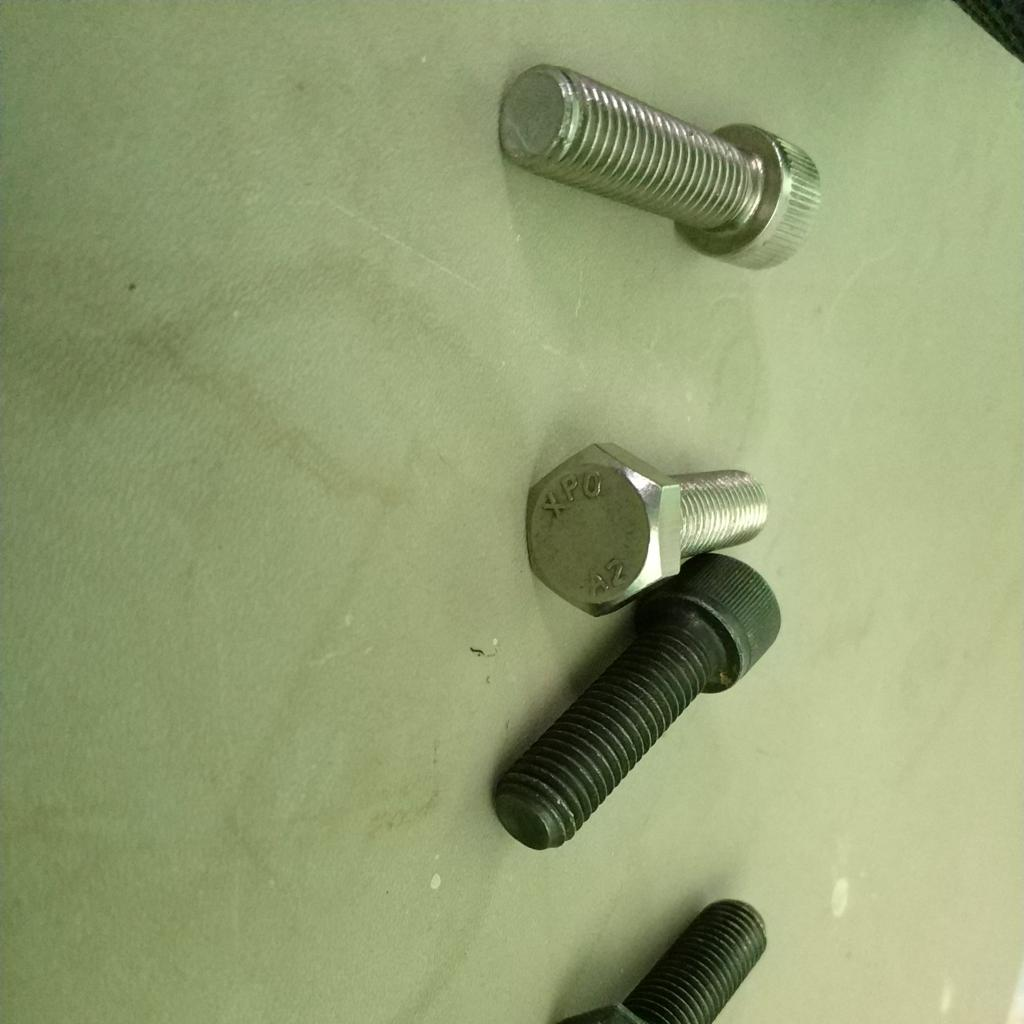screwtype1silver: (480, 552, 783, 838), (493, 55, 824, 268)
screwtype2silver: (519, 434, 769, 617)
